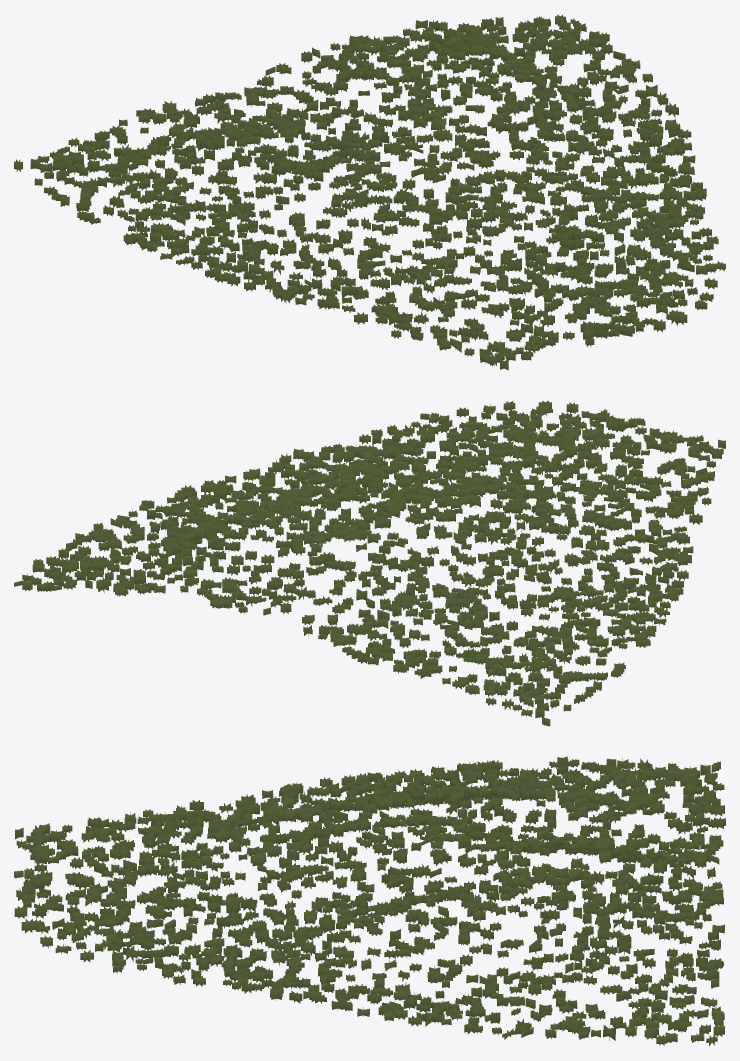
File: TRB8-GRASS-CHUNK-8-6.glb
3 renders of one model, top to bottom at view 1: azimuth 30°, elevation 25°; view 2: azimuth 150°, elevation 25°; view 3: azimuth 270°, elevation 25°, orthographic. The views are drawn at different scales.
Visible parts, largest first — view 1: TRB8-GRASS-CHUNK-8-6; view 2: TRB8-GRASS-CHUNK-8-6; view 3: TRB8-GRASS-CHUNK-8-6.
Part boxes in pixels (<box>): TRB8-GRASS-CHUNK-8-6: <box>14,14,725,370</box>; TRB8-GRASS-CHUNK-8-6: <box>14,400,725,726</box>; TRB8-GRASS-CHUNK-8-6: <box>14,756,725,1046</box>.
Size of the model in its own units: 29.12 by 3.72 by 30.15.
1 material, 1 textured.
